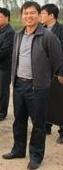boots: (0, 124, 10, 132), (0, 112, 8, 119)
